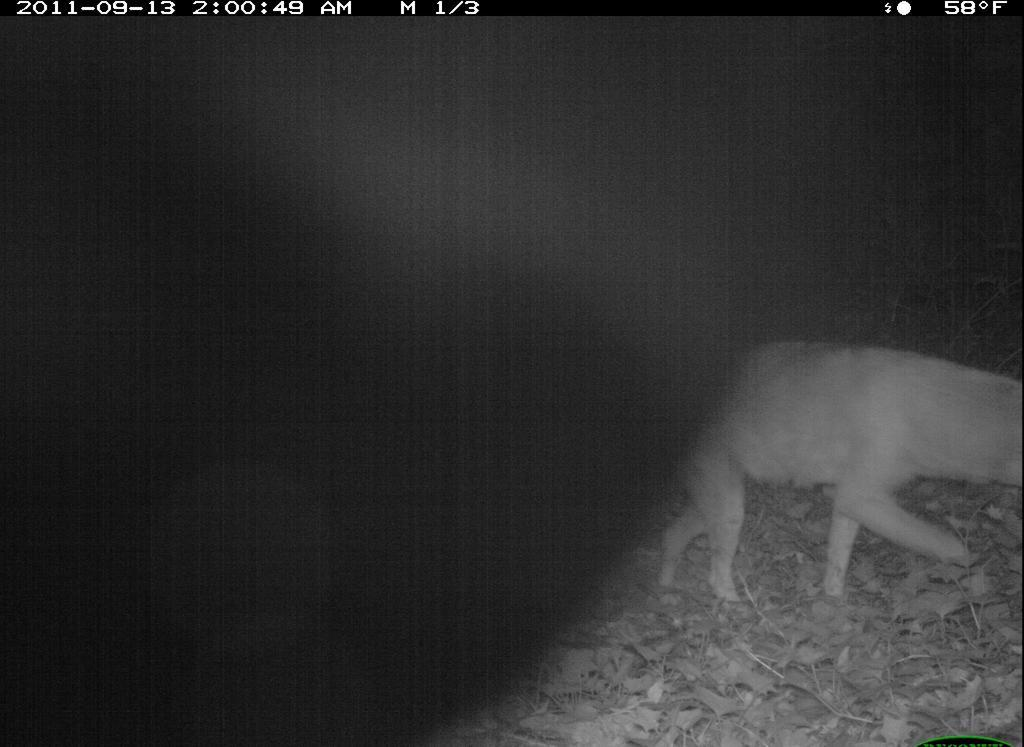coyote: (625, 297, 1023, 605)
